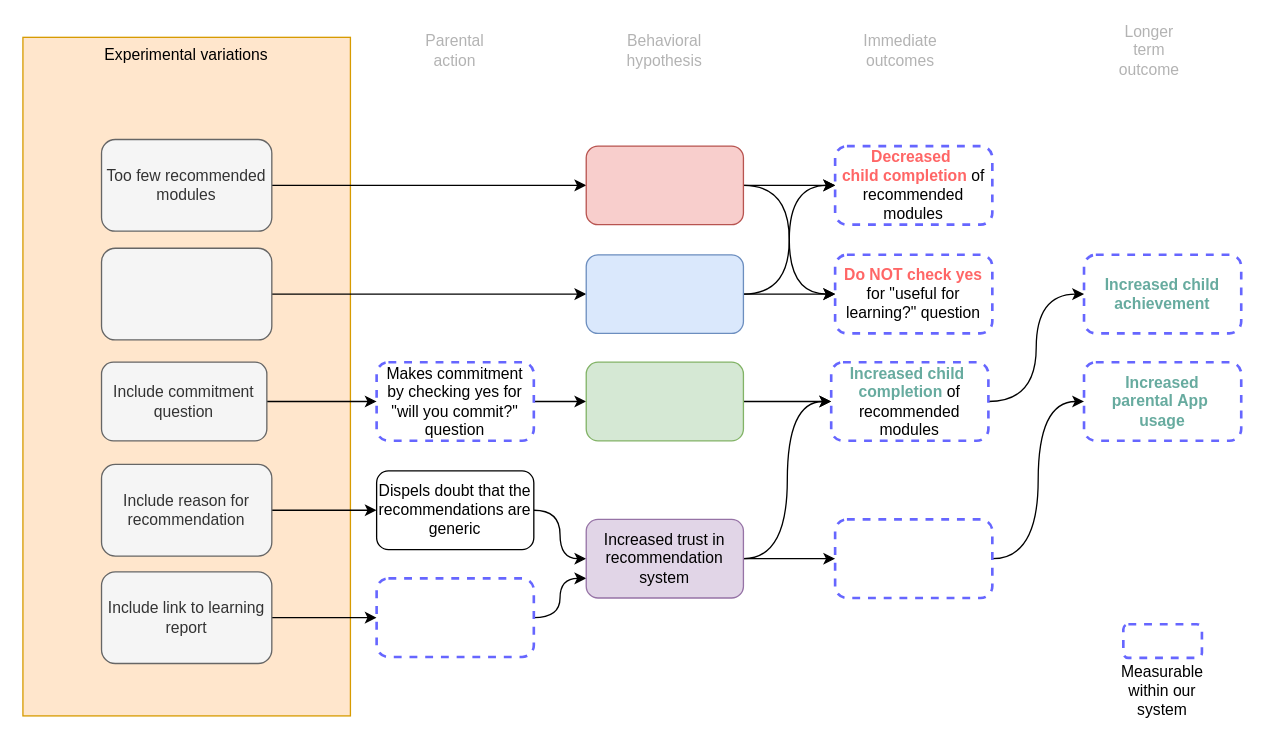
Some shapes in this 1265 by 743 pixel diagram are drawn without their labels. Here are the shapes that lost their labels. From the top down, the centre of each, then its label:
the point at 664,185: Low agency as a result of lack of choices
the point at 186,293: Too many recommended modules
the point at 664,293: Information overload
the point at 664,401: Tendency to honor commitment
the point at 913,558: Check yes for "useful for learning?" question
the point at 454,617: Verify recommendation accuracy by reading report
